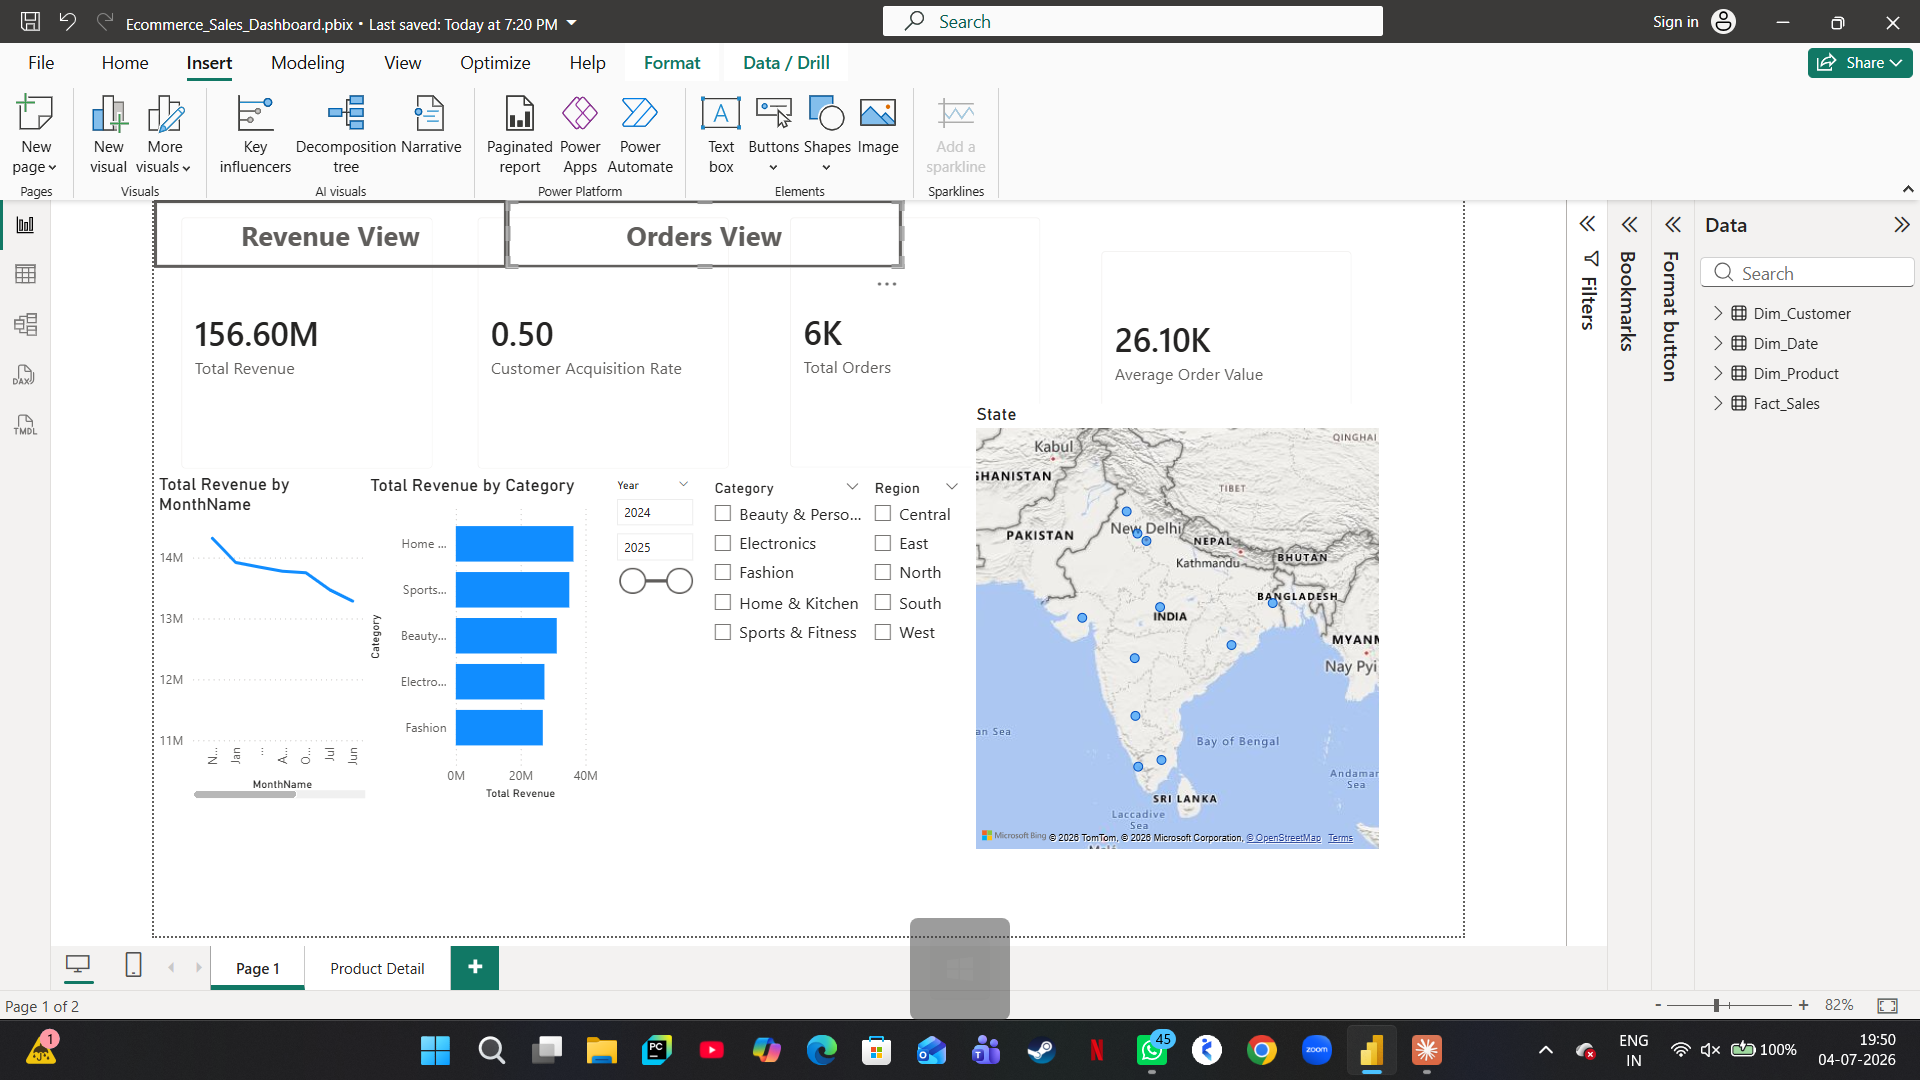

What the dashboard file says about the page in this screenshot:
{"tool":"powerbi","page":{"name":"Page 1","canvas":[1280,720],"ordinal":0},"visuals":[{"type":"cardVisual","fields":{"Data":["Fact_Sales.Total Revenue"]},"box":[10,0,280,280],"z":0},{"type":"cardVisual","fields":{"Data":["Fact_Sales.Total Orders"]},"box":[605.1,0,279.9,279.9],"z":1000},{"type":"cardVisual","fields":{"Data":["Fact_Sales.Average Order Value"]},"box":[909.8,32.9,279.9,227.8],"z":2000},{"type":"cardVisual","fields":{"Data":["Fact_Sales.Customer Acquisition Rate"]},"box":[300,0,280,280],"z":3000},{"type":"lineChart","fields":{"Category":["Dim_Date.MonthName"],"Y":["Fact_Sales.Total Revenue"]},"box":[0,267.6,217.9,322.8],"z":4000},{"type":"clusteredBarChart","fields":{"Category":["Dim_Product.Category"],"Y":["Fact_Sales.Total Revenue"]},"box":[207.1,269,232.7,322.8],"z":5000},{"type":"slicer","fields":{"Values":["Dim_Date.Year"]},"box":[439.8,267.6,95.5,322.8],"z":6000},{"type":"slicer","fields":{"Values":["Dim_Product.Category"]},"box":[535.2,267.6,166.8,321.4],"z":7000},{"type":"slicer","fields":{"Values":["Dim_Customer.Region"]},"box":[692.6,267.6,107.6,299.9],"z":8000},{"type":"map","fields":{"Category":["Dim_Customer.State"]},"box":[800.2,199.2,403.4,441.6],"z":11000},{"type":"actionButton","box":[0,0,345.3,66.4],"z":11001},{"type":"actionButton","box":[345.3,0,386.8,66.4],"z":11002}]}

Visuals, with their boxes on the page's 1280x720 design canvas (x1, y1, x2, y2). These are canvas units, not pixel positions in the 1920x1080 screenshot, which may show the page scaled, cropped or inside an application window:
cardVisual - Fact_Sales.Total Revenue: x1=10 y1=0 x2=290 y2=280
cardVisual - Fact_Sales.Total Orders: x1=605 y1=0 x2=885 y2=280
cardVisual - Fact_Sales.Average Order Value: x1=910 y1=33 x2=1190 y2=261
cardVisual - Fact_Sales.Customer Acquisition Rate: x1=300 y1=0 x2=580 y2=280
lineChart - Dim_Date.MonthName x Fact_Sales.Total Revenue: x1=0 y1=268 x2=218 y2=590
clusteredBarChart - Dim_Product.Category x Fact_Sales.Total Revenue: x1=207 y1=269 x2=440 y2=592
slicer - Dim_Date.Year: x1=440 y1=268 x2=535 y2=590
slicer - Dim_Product.Category: x1=535 y1=268 x2=702 y2=589
slicer - Dim_Customer.Region: x1=693 y1=268 x2=800 y2=568
map - Dim_Customer.State: x1=800 y1=199 x2=1204 y2=641
actionButton: x1=0 y1=0 x2=345 y2=66
actionButton: x1=345 y1=0 x2=732 y2=66
